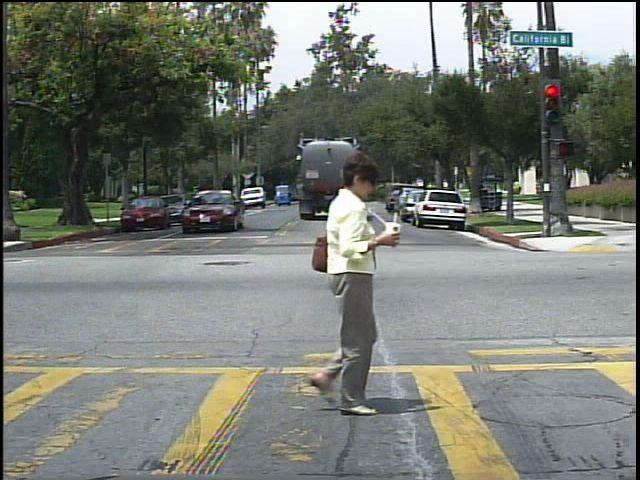person: (277, 150, 397, 423), (515, 180, 528, 199)
